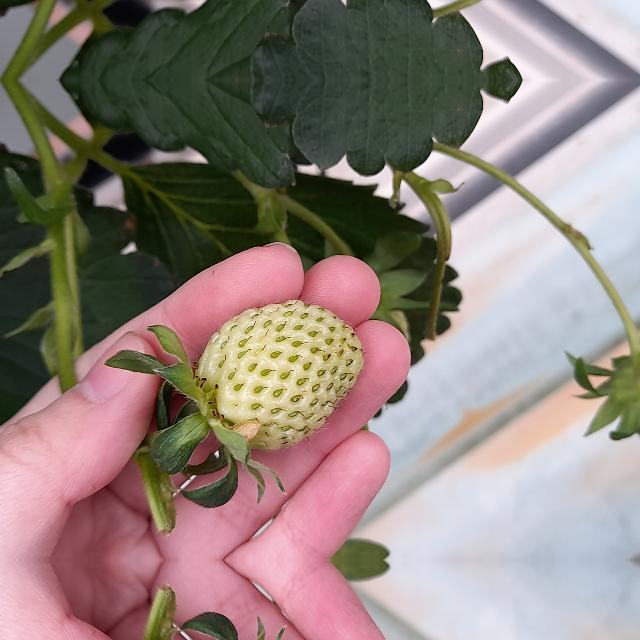Health_25: (194, 299, 363, 449)
